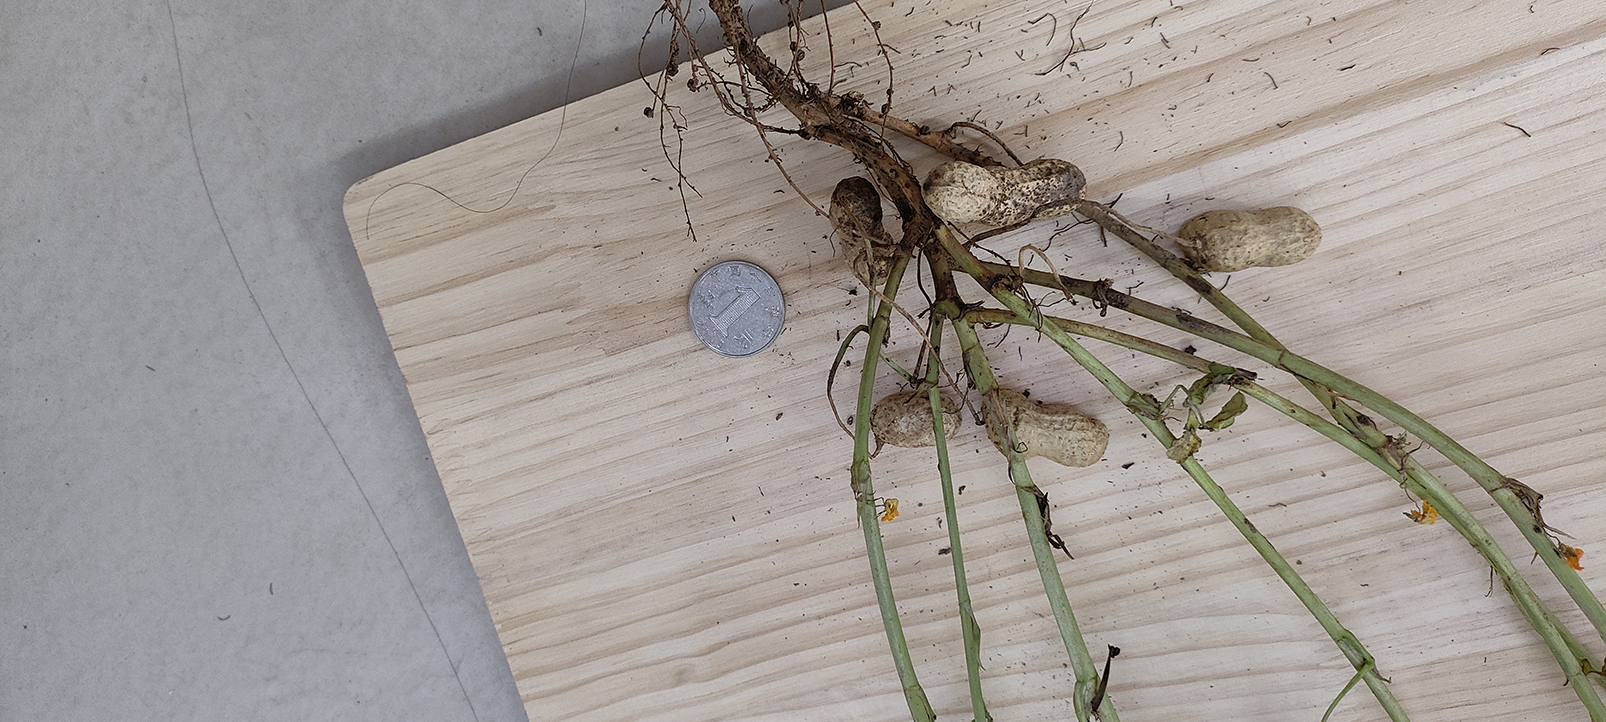h: (922, 158, 1087, 226), (1178, 207, 1323, 273), (983, 391, 1110, 466)
l: (831, 177, 894, 285), (871, 392, 962, 447)
